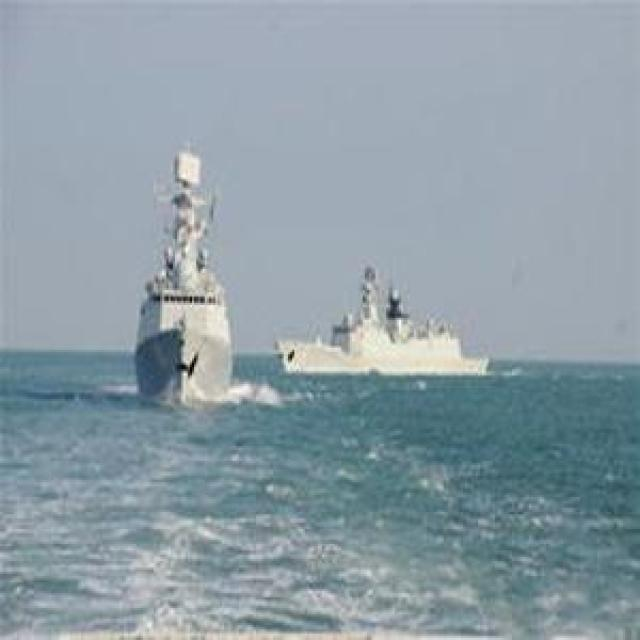navalvessels: (94, 146, 250, 410), (259, 239, 519, 383)
